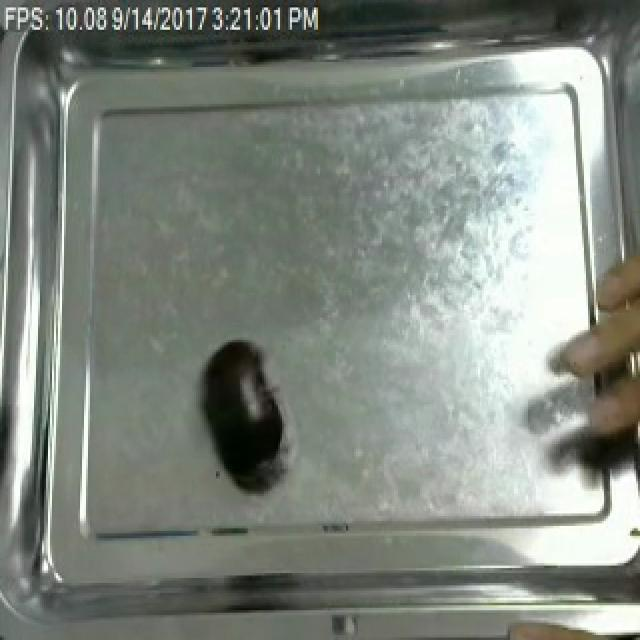Fruit: (198, 335, 278, 471)
